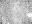person: (25, 14, 31, 18)
